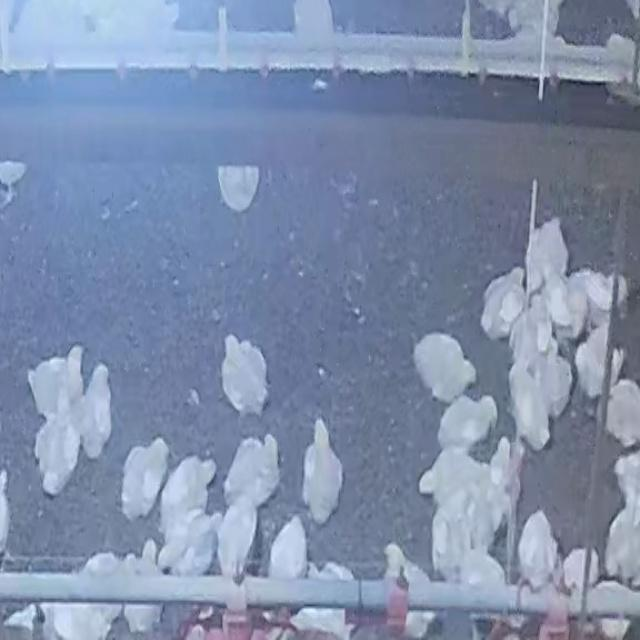chicken: (419, 444, 500, 576), (381, 543, 435, 640), (157, 448, 214, 534), (222, 434, 281, 514), (412, 333, 476, 403), (27, 408, 78, 494), (300, 424, 348, 514), (507, 359, 552, 455), (159, 506, 220, 576), (120, 437, 170, 522), (215, 336, 269, 414), (574, 319, 624, 403), (506, 294, 567, 360), (75, 363, 118, 452), (524, 217, 570, 298), (434, 392, 496, 451), (128, 532, 161, 636), (478, 268, 524, 342), (518, 507, 560, 587), (26, 352, 74, 422), (215, 501, 257, 581), (603, 380, 640, 448), (540, 348, 574, 422), (268, 516, 308, 578), (547, 273, 582, 340), (561, 545, 596, 594)
